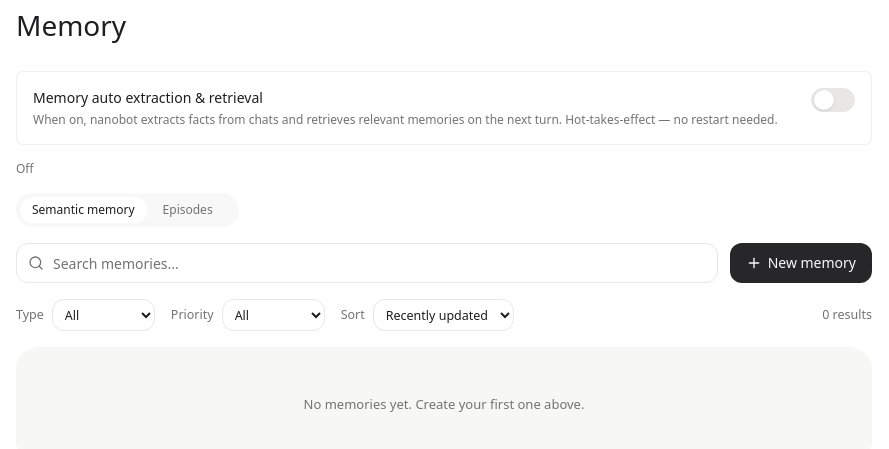
Test: Settings memory master toggle › reverts the toggle and surfaces the error when the mutation fails
Click the switch named "Toggle memory extraction".
click(833, 100)  # box [811,88,855,112]
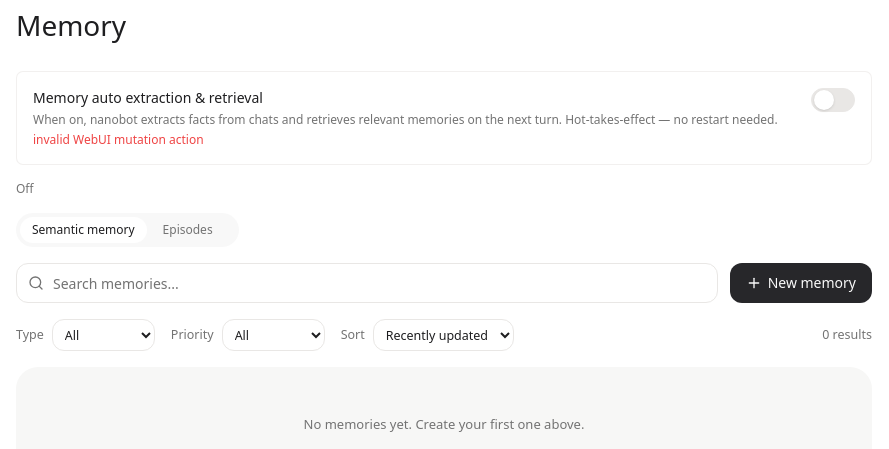
Now the text "invalid WebUI mutation action" is shown, box [33,131,204,148]
